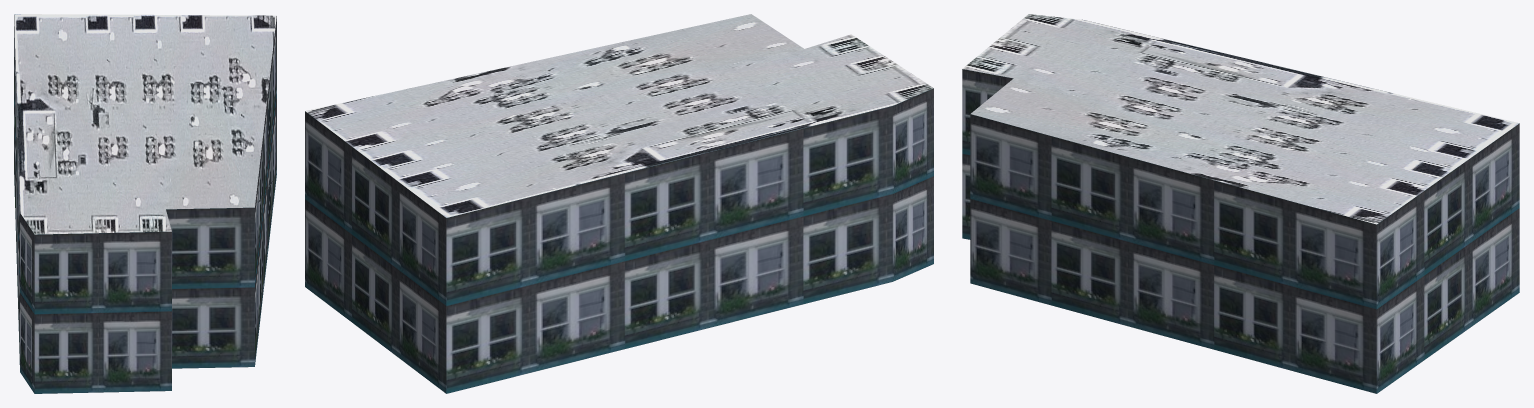
The model's file is ResTex__3585.fbx.
The picture shows the model from 3 angles, left to right: view 1: azimuth 30°, elevation 25°; view 2: azimuth 150°, elevation 25°; view 3: azimuth 270°, elevation 25°; orthographic projection. The views are drawn at different scales.
Visible parts, largest first — view 1: CityEngineMaterial_8_m, CityEngineMaterial_11_m; view 2: CityEngineMaterial_11_m, CityEngineMaterial_8_m; view 3: CityEngineMaterial_11_m, CityEngineMaterial_8_m.
Part boxes in pixels (left/top/right/bottom): CityEngineMaterial_8_m: left=14, top=14, right=276, bottom=234; CityEngineMaterial_11_m: left=14, top=15, right=276, bottom=393; CityEngineMaterial_11_m: left=305, top=88, right=933, bottom=393; CityEngineMaterial_8_m: left=305, top=14, right=933, bottom=217; CityEngineMaterial_11_m: left=962, top=69, right=1519, bottom=393; CityEngineMaterial_8_m: left=962, top=14, right=1519, bottom=224.
Size of the model in its own units: 15.99 by 6 by 17.9.
2 materials, 2 textured.
